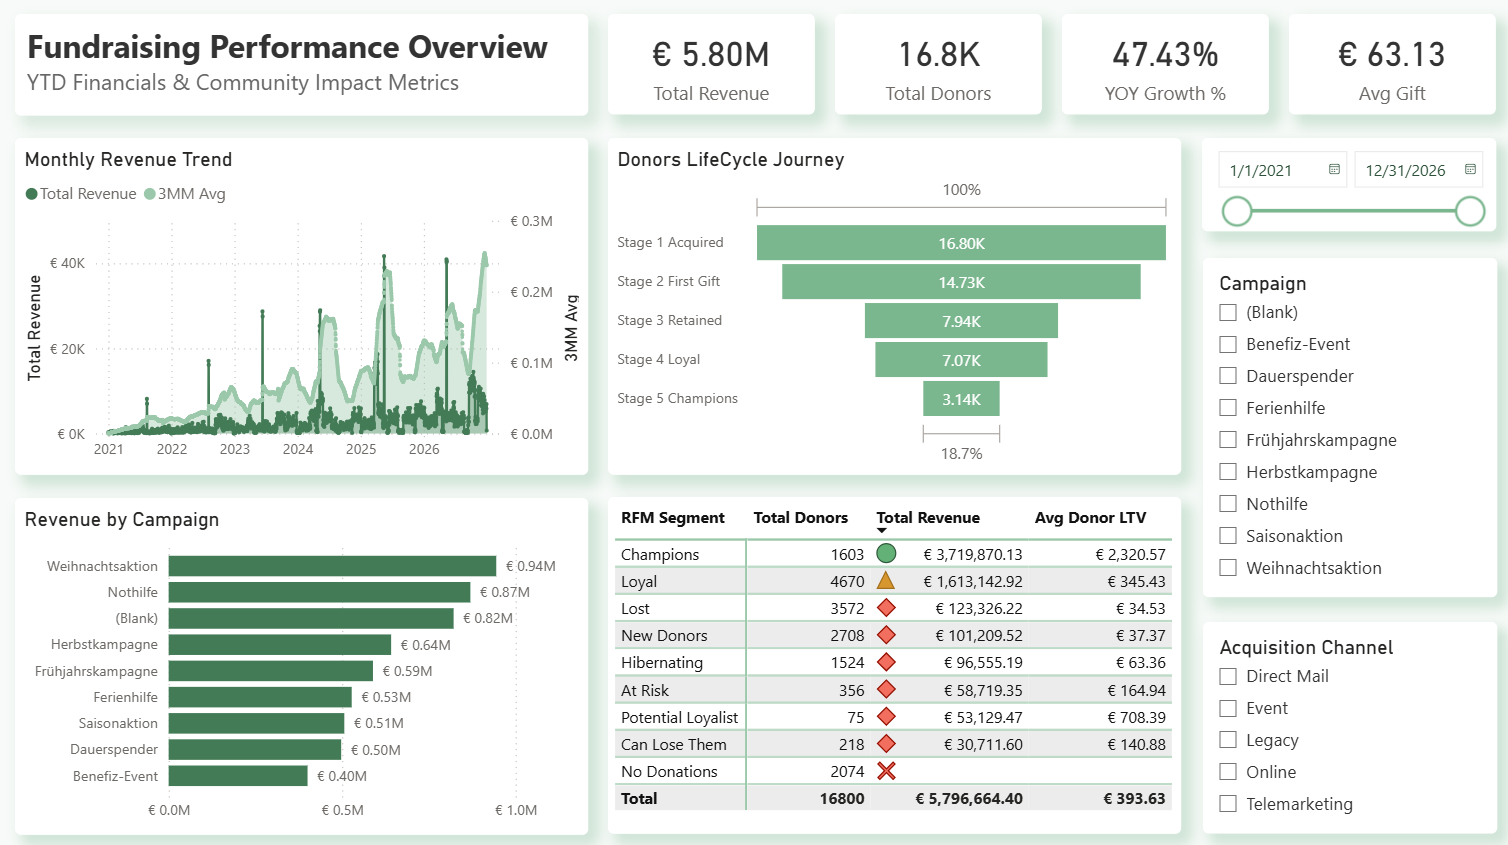

The dashboard page shown, as its layout file describes it:
{"tool":"powerbi","page":{"name":"Executive Summary ","canvas":[1280,720],"ordinal":0},"visuals":[{"type":"textbox","box":[13.4,13.5,485.1,85.8],"z":0},{"type":"card","fields":{"Values":["fundraising_measures.Total Revenue"]},"box":[515.5,13.5,175,84.8],"z":1000},{"type":"card","fields":{"Values":["fundraising_measures.Total Donors"]},"box":[707.5,13.5,175,85],"z":2000},{"type":"card","fields":{"Values":["fundraising_measures.YOY Growth %"]},"box":[899.5,13.5,175,85],"z":3000},{"type":"card","fields":{"Values":["fundraising_measures.Avg Gift"]},"box":[1091.5,13.5,175,84.8],"z":4000},{"type":"lineChart","title":"Monthly Revenue Trend","fields":{"Category":["calendar.date"],"Y":["fundraising_measures.Total Revenue"],"Y2":["fundraising_measures.Revenue 3M M_Avg"]},"box":[13.4,118.4,485.1,285],"z":5000},{"type":"slicer","fields":{"Values":["calendar.date"]},"box":[1018.2,118.3,248.7,79.1],"z":6000},{"type":"clusteredBarChart","title":"Revenue by Campaign","fields":{"Category":["campaigns.campaign_type"],"Y":["fundraising_measures.Total Revenue"]},"box":[13.4,422.7,485.1,285],"z":7000},{"type":"funnel","title":"Donors LifeCycle Journey","fields":{"Y":["fundraising_measures.Stage 1 Acquired","fundraising_measures.Stage 2 First Gift","fundraising_measures.Stage 3 Retained","fundraising_measures.Stage 4 Loyal","fundraising_measures.Stage 5 Champions"]},"box":[515.1,118.3,485.1,284.9],"z":8000},{"type":"pivotTable","fields":{"Values":["fundraising_measures.Total Donors","fundraising_measures.Total Revenue","fundraising_measures.Avg Donor LTV"],"Rows":["donors.RFM_segment"]},"box":[515.1,422.5,485.1,284.9],"z":9000},{"type":"slicer","fields":{"Values":["campaigns.campaign_type"]},"box":[1018.3,220.2,249,286.6],"z":10000},{"type":"slicer","fields":{"Values":["donors.acquisition_channel"]},"box":[1018.3,528.2,249,179.1],"z":11000}]}

Visuals, with their boxes in screenshot pixels (x1, y1, x2, y2), scaled from the page's 1280x720 canvas onto the 1508x845 screenshot:
textbox: bbox=[16, 16, 587, 117]
card - fundraising_measures.Total Revenue: bbox=[607, 16, 813, 115]
card - fundraising_measures.Total Donors: bbox=[834, 16, 1040, 116]
card - fundraising_measures.YOY Growth %: bbox=[1060, 16, 1266, 116]
card - fundraising_measures.Avg Gift: bbox=[1286, 16, 1492, 115]
"Monthly Revenue Trend" lineChart: bbox=[16, 139, 587, 473]
slicer - calendar.date: bbox=[1200, 139, 1493, 232]
"Revenue by Campaign" clusteredBarChart: bbox=[16, 496, 587, 831]
"Donors LifeCycle Journey" funnel: bbox=[607, 139, 1178, 473]
pivotTable - fundraising_measures.Total Donors x fundraising_measures.Total Revenue: bbox=[607, 496, 1178, 830]
slicer - campaigns.campaign_type: bbox=[1200, 258, 1493, 595]
slicer - donors.acquisition_channel: bbox=[1200, 620, 1493, 830]
